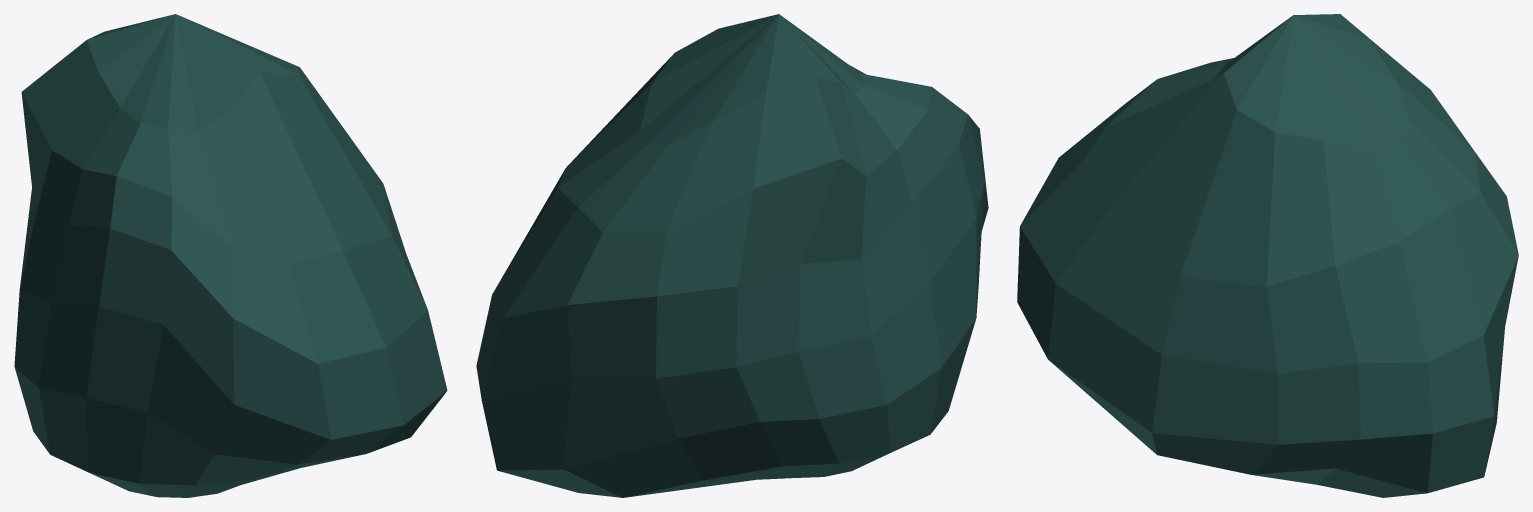
The model's file is bush2.fbx.
The picture shows the model from 3 angles, left to right: view 1: azimuth 30°, elevation 25°; view 2: azimuth 150°, elevation 25°; view 3: azimuth 270°, elevation 25°; orthographic projection. The views are drawn at different scales.
Visible parts, largest first — view 1: Bush2; view 2: Bush2; view 3: Bush2.
Part boxes in pixels (x1=…): Bush2: x1=14, y1=14, x2=447, y2=497; Bush2: x1=476, y1=14, x2=988, y2=497; Bush2: x1=1017, y1=14, x2=1518, y2=497.
Size of the model in its own units: 10.8 by 13.29 by 12.11.
